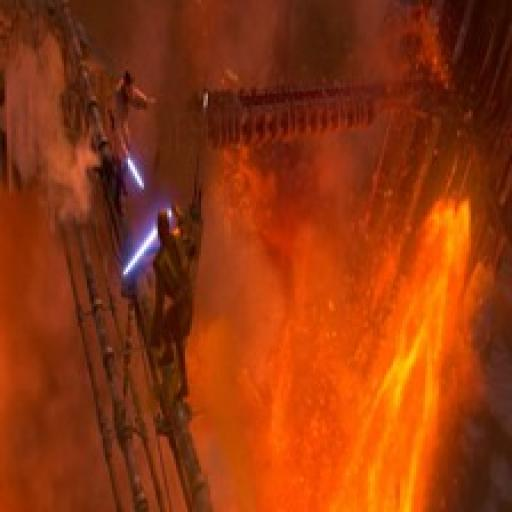human: (146, 206, 198, 349), (94, 63, 162, 159)
lightsaber: (122, 199, 180, 276), (122, 147, 148, 190)
